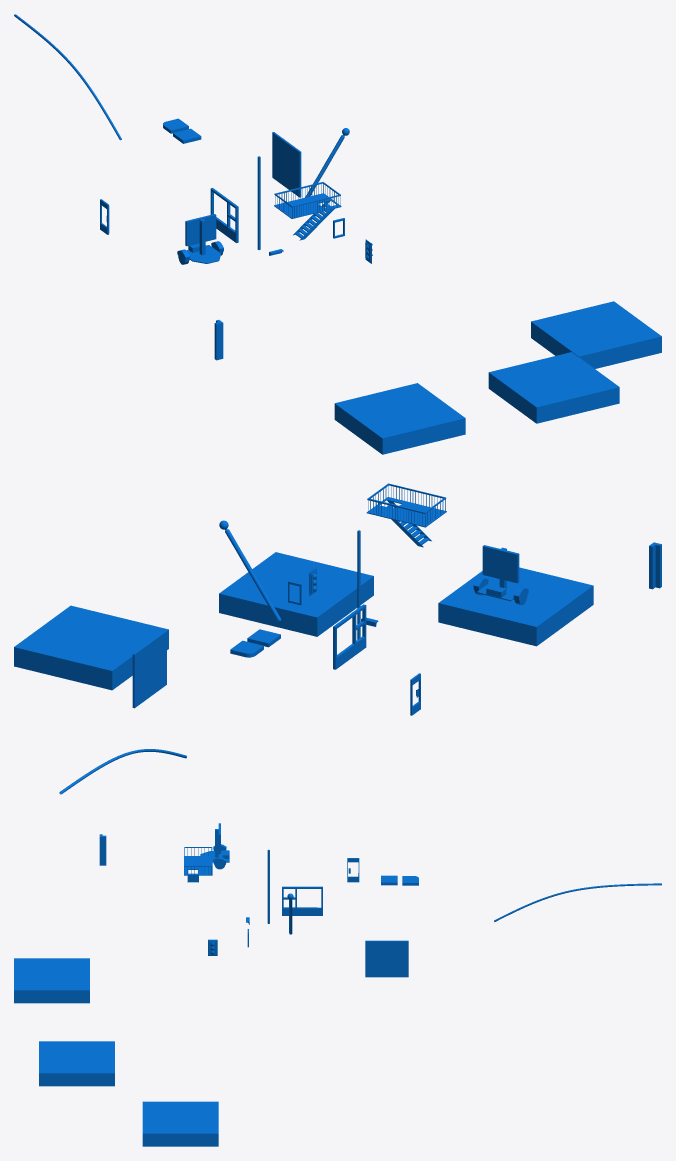
Rendered from LowRes.fbx.
The picture shows the model from 3 angles, top to bottom: view 1: azimuth 30°, elevation 25°; view 2: azimuth 150°, elevation 25°; view 3: azimuth 270°, elevation 25°; orthographic projection. The views are drawn at different scales.
Visible parts, largest first — view 1: pCube79, pCube80, pCube81, pCylinder60, pCube78, pCube18, pCube25; view 2: pCube80, pCube81, pCube79, pCylinder60, pCube78, pCube18, pCube25, pCylinder2, pCube37, wire5; view 3: pCube81, pCube79, pCube80, pCube18, pCylinder60, pCube25, pCube78.
Boxes of the visible parts, bbox=[...] form: pCube79: bbox=[334, 383, 465, 454]; pCube80: bbox=[488, 352, 619, 423]; pCube81: bbox=[531, 301, 661, 368]; pCylinder60: bbox=[274, 182, 341, 240]; pCube78: bbox=[177, 214, 223, 264]; pCube18: bbox=[272, 132, 301, 197]; pCube25: bbox=[210, 188, 238, 242]; pCube80: bbox=[219, 552, 373, 636]; pCube81: bbox=[14, 605, 168, 690]; pCube79: bbox=[438, 567, 593, 646]; pCylinder60: bbox=[366, 483, 446, 547]; pCube78: bbox=[473, 545, 528, 605]; pCube18: bbox=[132, 630, 166, 708]; pCube25: bbox=[333, 604, 366, 669]; pCylinder2: bbox=[219, 520, 281, 621]; pCube37: bbox=[649, 542, 661, 589]; wire5: bbox=[59, 749, 186, 794]; pCube81: bbox=[142, 1101, 218, 1146]; pCube79: bbox=[14, 958, 89, 1003]; pCube80: bbox=[39, 1041, 114, 1086]; pCube18: bbox=[365, 940, 408, 977]; pCylinder60: bbox=[184, 847, 212, 882]; pCube25: bbox=[282, 886, 322, 915]; pCube78: bbox=[200, 823, 229, 869].
Bounding box in the file's own units: 64.27 × 28.12 × 96.32.
